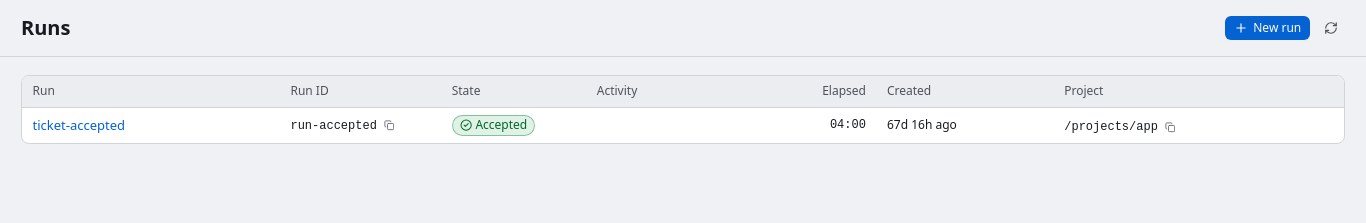
Test: a refresh failure surfaces a stale-data warning, not silence
The image size is (1366, 223).
Expected: the link "ticket-accepted" is shown, [32,116,125,134]
Click the button named "Refresh".
click(1331, 28)  # box [1317,14,1345,42]
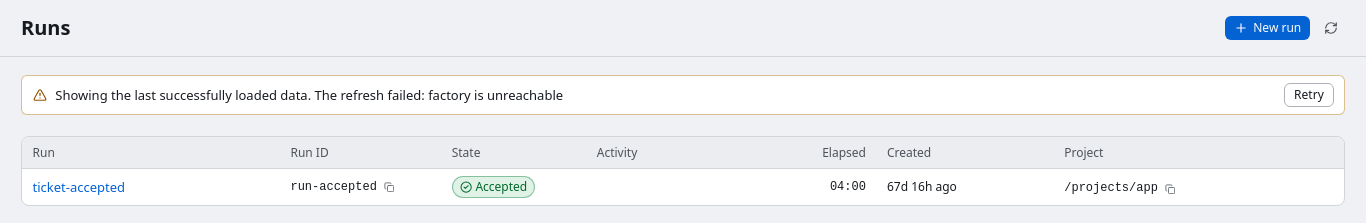
Expected: the link "ticket-accepted" is shown, [32,178,125,196]
Expected: the message with test id "run-list-stale-banner" is shown, [21,74,1345,115]
Expected: the text "refresh failed" is shown, [55,86,425,104]
